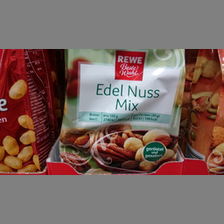nuts: (59, 50, 187, 175)
